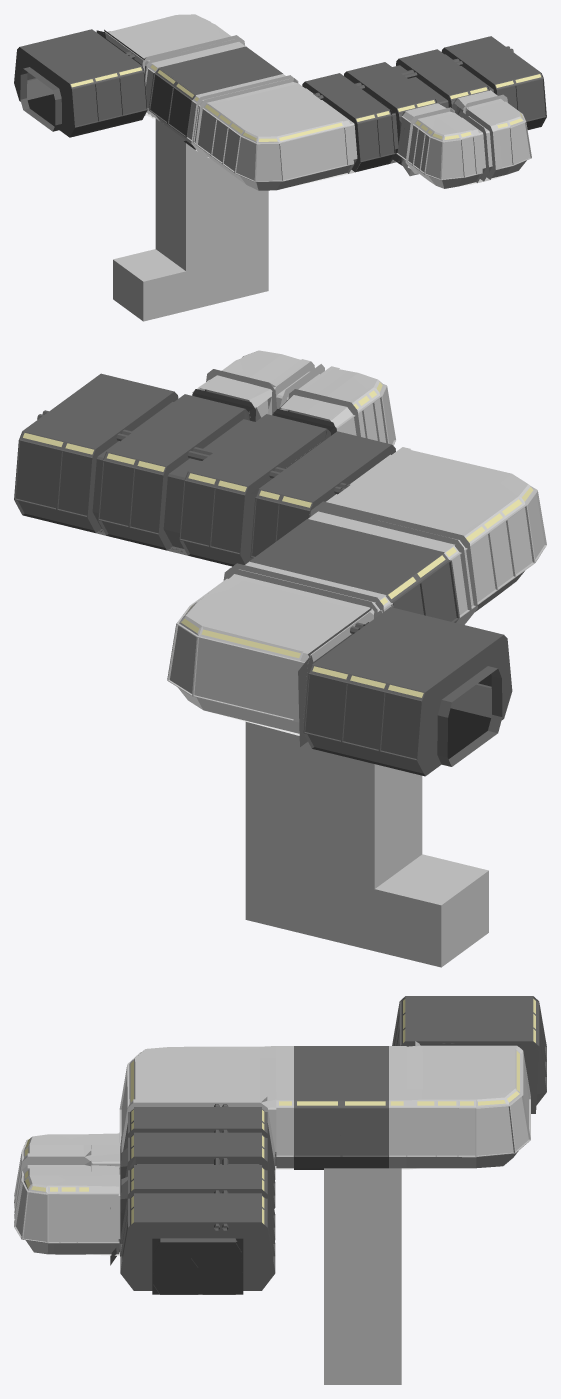
The model's file is LVL3_Blockout_test.fbx.
The picture shows the model from 3 angles, top to bottom: view 1: azimuth 30°, elevation 25°; view 2: azimuth 150°, elevation 25°; view 3: azimuth 270°, elevation 25°; orthographic projection. The views are drawn at different scales.
Parts seen in each view (by area): view 1: PI_coner.003, PI_coner.004, MSH_LV.007, MSH_LV.004, PI_coner.006, MSH_LV.003, PI_coner.005, MSH_LV.009; view 2: PI_coner.003, MSH_LV.007, PI_coner.004, MSH_LV.004, MSH_LV.009, MSH_LV.003, PI_coner.006, PI_coner.005; view 3: PI_coner.003, PI_coner.004, MSH_LV.003, PI_coner.005, MSH_LV.004, MSH_LV.007, MSH_LV.009, PI_coner.006, MSH_LV.1_Door_R.003, MSH_LV.1_Door_L.003.
Part boxes in pixels (bbox=[...]): PI_coner.003: bbox=[103, 14, 282, 321]; PI_coner.004: bbox=[186, 74, 360, 190]; MSH_LV.007: bbox=[14, 29, 147, 137]; MSH_LV.004: bbox=[302, 62, 441, 176]; PI_coner.006: bbox=[396, 103, 485, 188]; MSH_LV.003: bbox=[441, 36, 546, 129]; PI_coner.005: bbox=[454, 90, 531, 181]; MSH_LV.009: bbox=[393, 49, 496, 114]; PI_coner.003: bbox=[167, 519, 488, 967]; MSH_LV.007: bbox=[298, 607, 512, 776]; PI_coner.004: bbox=[308, 444, 546, 624]; MSH_LV.004: bbox=[174, 409, 395, 566]; MSH_LV.009: bbox=[98, 389, 261, 552]; MSH_LV.003: bbox=[14, 373, 178, 533]; PI_coner.006: bbox=[279, 366, 395, 445]; PI_coner.005: bbox=[192, 350, 324, 417]; PI_coner.003: bbox=[294, 1041, 530, 1384]; PI_coner.004: bbox=[119, 1046, 293, 1169]; MSH_LV.003: bbox=[120, 1193, 275, 1294]; PI_coner.005: bbox=[14, 1161, 120, 1255]; MSH_LV.004: bbox=[110, 1107, 275, 1208]; MSH_LV.007: bbox=[392, 996, 546, 1113]; MSH_LV.009: bbox=[110, 1165, 275, 1265]; PI_coner.006: bbox=[14, 1133, 120, 1212]; MSH_LV.1_Door_R.003: bbox=[152, 1238, 202, 1294]; MSH_LV.1_Door_L.003: bbox=[195, 1238, 243, 1294].
Size of the model in its own units: 2862 by 1653 by 2748.
